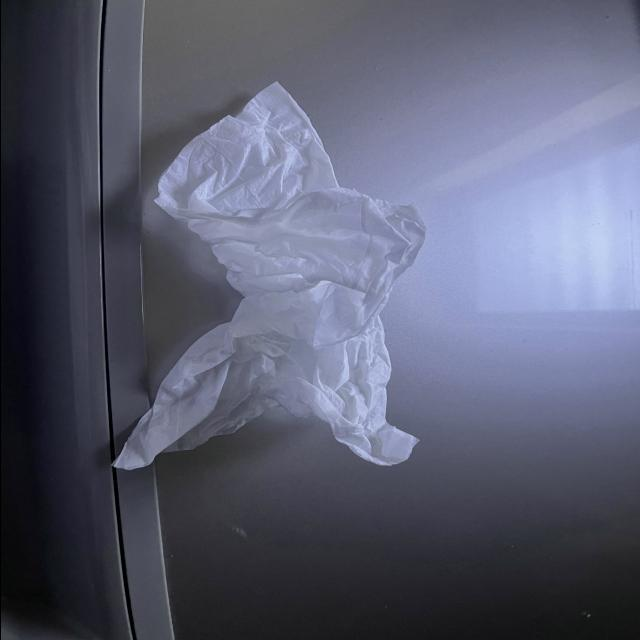Paper: (133, 86, 416, 478)
